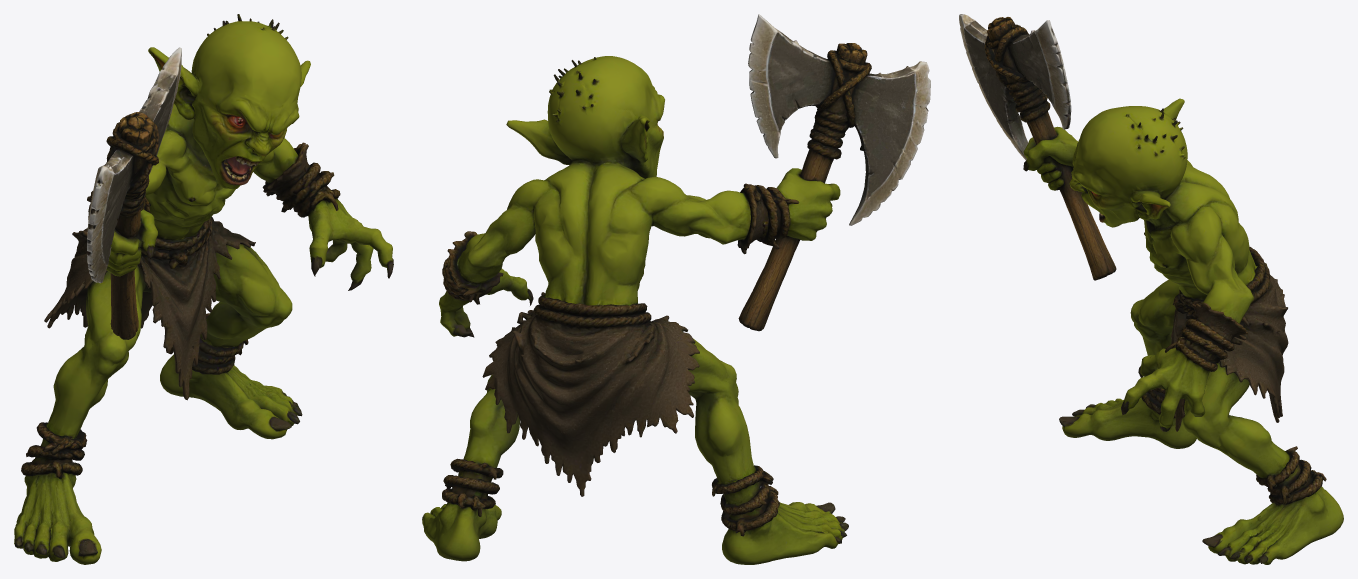
File: toyol.glb
The picture shows the model from 3 angles, left to right: view 1: azimuth 30°, elevation 25°; view 2: azimuth 150°, elevation 25°; view 3: azimuth 270°, elevation 25°; orthographic projection. The views are drawn at different scales.
Parts seen in each view (by area): view 1: tripo_node_37671888-17e1-4087-b0cd-7450a0c3b80a; view 2: tripo_node_37671888-17e1-4087-b0cd-7450a0c3b80a; view 3: tripo_node_37671888-17e1-4087-b0cd-7450a0c3b80a.
Boxes of the visible parts, x1,y1,x2,y2 form: tripo_node_37671888-17e1-4087-b0cd-7450a0c3b80a: (14,14,393,564); tripo_node_37671888-17e1-4087-b0cd-7450a0c3b80a: (422,14,930,564); tripo_node_37671888-17e1-4087-b0cd-7450a0c3b80a: (959,14,1343,564).
Bounding box in the file's own units: 0.8121 × 1 × 0.7742.
1 material, 1 textured.
